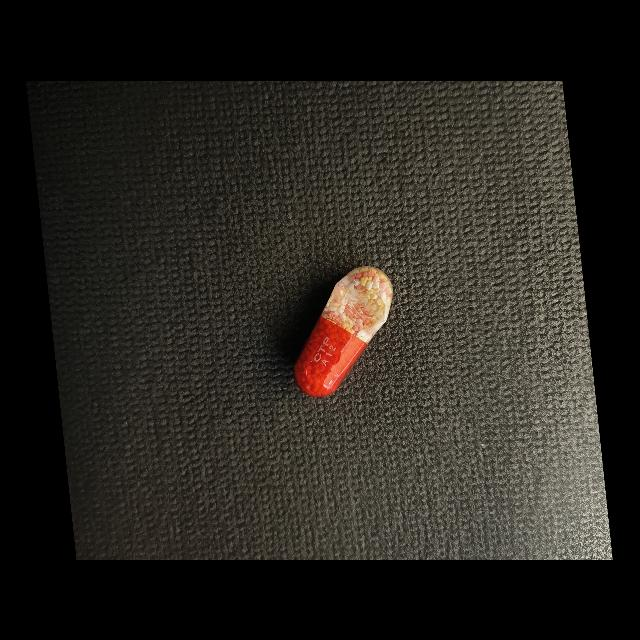Defective Capsule: (295, 266, 393, 396)
